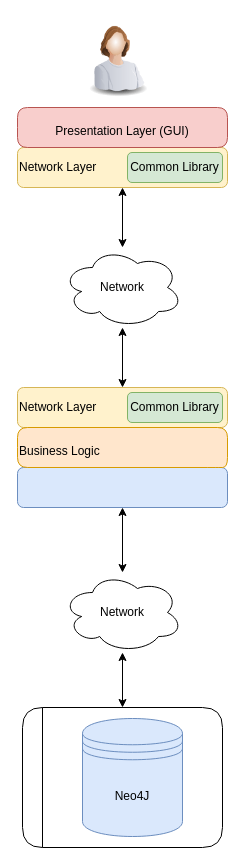
This 245x865 diagram has some shape labels left out. The shapes that lost their labels are listed below. From the top down, each one's box as (x1, y1, x2, y2) in pixels, then its label:
(16, 466, 228, 508): Data Access Layer
(22, 706, 222, 848): Database
